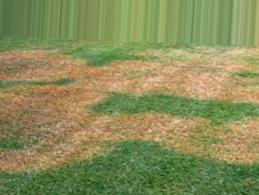patch: (12, 91, 84, 159), (13, 55, 70, 80)
